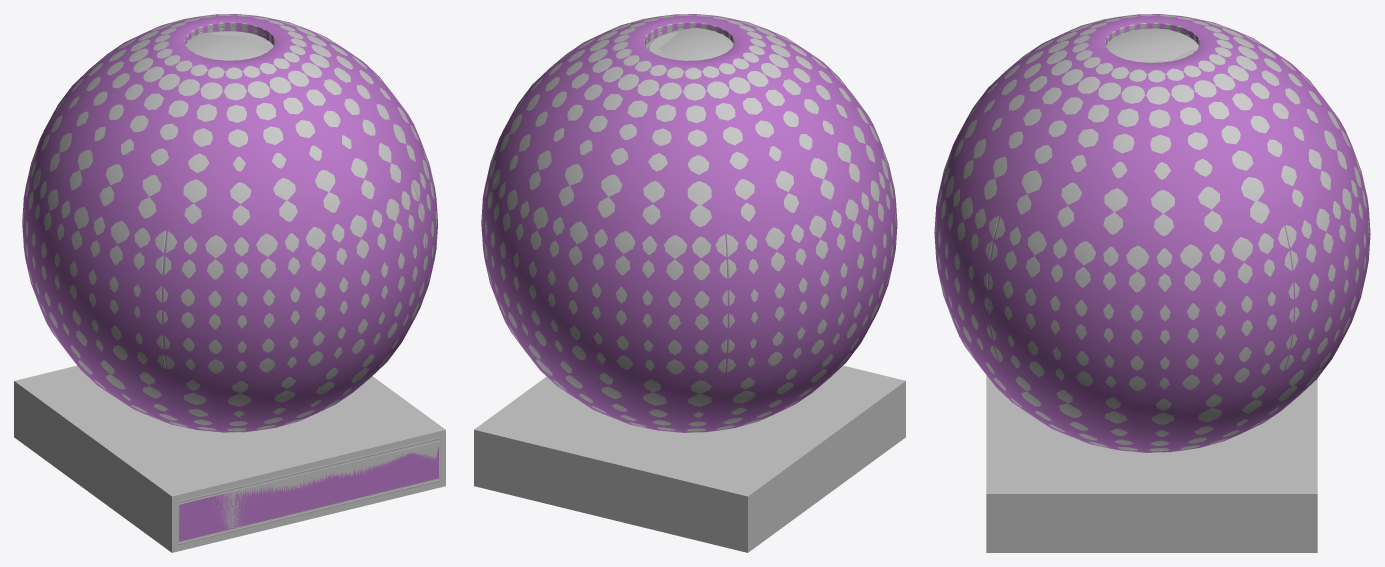
File: RM Material dummy - sphere.fbx
3 views of the same model, side by side, from view 1: azimuth 30°, elevation 25°; view 2: azimuth 150°, elevation 25°; view 3: azimuth 270°, elevation 25° (orthographic). The views are drawn at different scales.
Parts seen in each view (by area): view 1: Material sphere_PHYS, Material sphere_LOD0, Material sphere_GIPROXY; view 2: Material sphere_PHYS, Material sphere_GIPROXY, Material sphere_LOD0; view 3: Material sphere_PHYS, Material sphere_LOD0, Material sphere_GIPROXY.
Boxes of the visible parts, x1,y1,x2,y2 form: Material sphere_PHYS: (22,14,438,541); Material sphere_LOD0: (23,14,439,544); Material sphere_GIPROXY: (14,31,445,552); Material sphere_PHYS: (481,14,897,432); Material sphere_GIPROXY: (474,28,905,552); Material sphere_LOD0: (482,14,896,432); Material sphere_PHYS: (934,14,1370,452); Material sphere_LOD0: (935,14,1369,452); Material sphere_GIPROXY: (986,28,1317,552).
Size of what is drawn, in the model's own units: 118 by 132 by 118.
